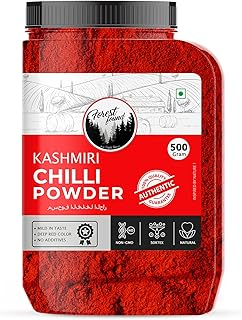Chilli Powder: (20, 2, 223, 318)
